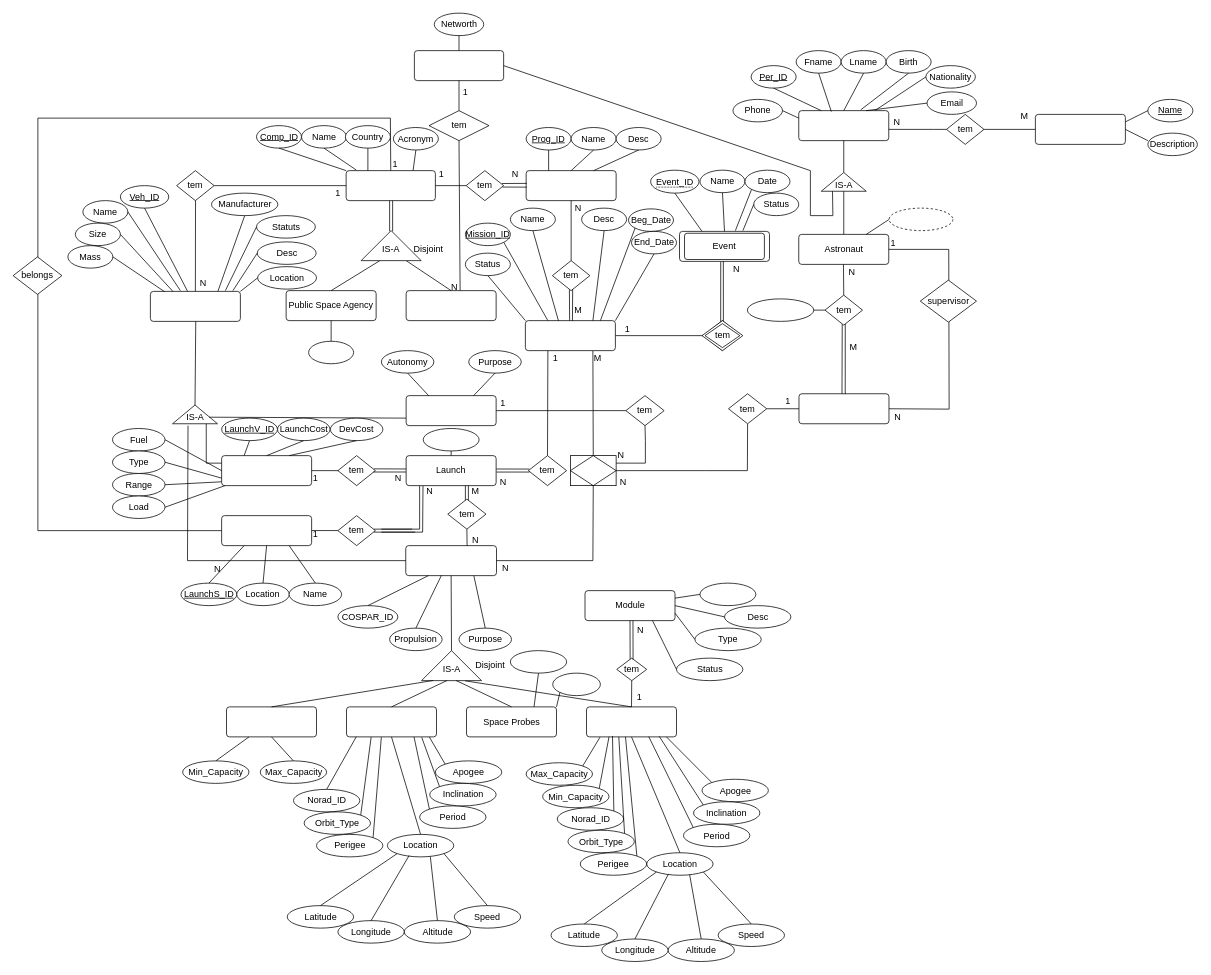
Some shapes in this 1211 by 975 pixel diagram are drawn without their labels. The centre of each missing label's shape, as x and y in pixels:
"CEO" belongs at [459,65].
"Comm_Type" belongs at [538,661].
"Crew" belongs at [843,408].
"Crewed Spacecraft" belongs at [271,721].
"Gov" belongs at [331,352].
"Launch Site" belongs at [266,530].
"Launch Vehicle" belongs at [266,470].
"Launch_ID" belongs at [450,439].
"Mission" belongs at [570,335].
"Module_ID" belongs at [727,594].
"Num_missions" belongs at [920,219].
"Payload" belongs at [593,470].
"Person" belongs at [843,125].
"Private Space Company" belongs at [450,305].
"Program" belongs at [570,185].
"Role" belongs at [780,309].
"Rover" belongs at [450,410].
"Satellite" belongs at [391,721].
"Scope" belongs at [576,684].
"Space Company" belongs at [390,185].
"Space Station" belongs at [631,721].
"Spacecraft" belongs at [450,560].
"Specialty" belongs at [1080,129].
"Vehicle" belongs at [195,306].
